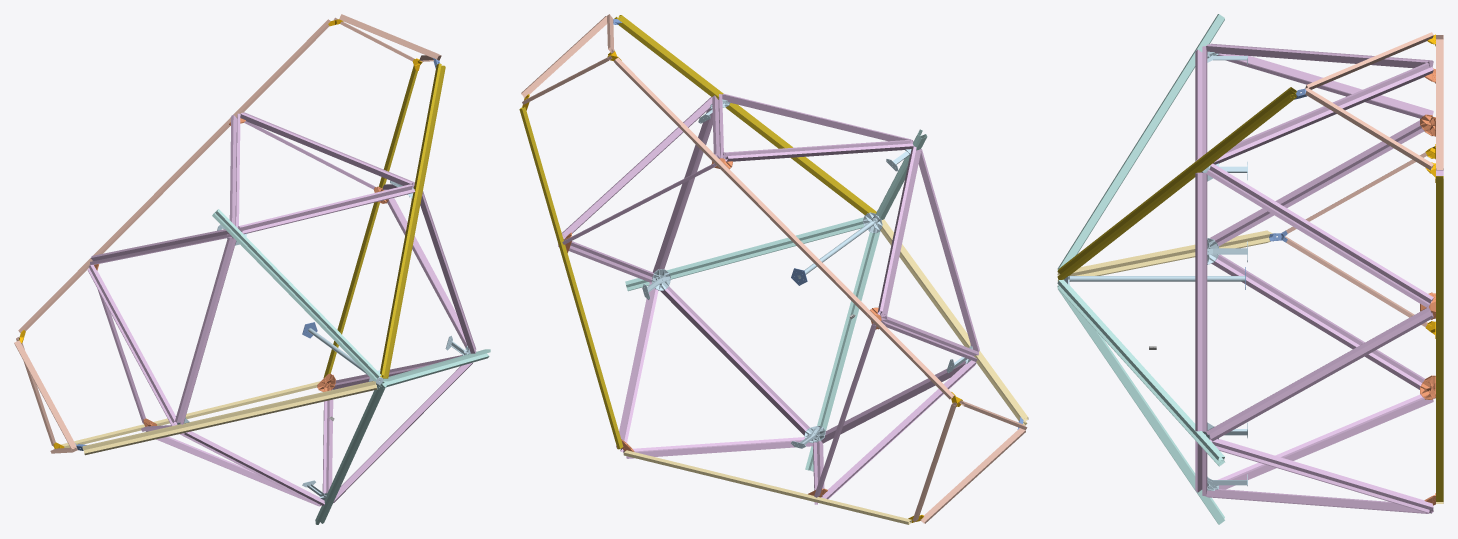
The model's file is dome_struts.glb.
The picture shows the model from 3 angles, left to right: view 1: azimuth 30°, elevation 25°; view 2: azimuth 150°, elevation 25°; view 3: azimuth 270°, elevation 25°; orthographic projection. The views are drawn at different scales.
Parts seen in each view (by area): view 1: 12ft (×18), 14ft (×6), 20ft (×3), 18ft (×3), 26ft, 24ft (×2); view 2: 12ft (×19), 20ft (×3), 14ft (×4), 18ft (×3), 26ft, 24ft (×3); view 3: 12ft (×22), 14ft (×5), 20ft (×3), 24ft (×5), 18ft (×2), Part 1.
Part boxes in pixels (x1,y1,x2,y2): 12ft (×18): (87, 112, 476, 506); 14ft (×6): (212, 209, 490, 524); 20ft (×3): (323, 63, 445, 378); 18ft (×3): (61, 381, 377, 455); 26ft: (18, 19, 330, 332); 24ft (×2): (14, 14, 438, 449); 12ft (×19): (562, 94, 979, 499); 20ft (×3): (519, 15, 876, 449); 14ft (×4): (625, 217, 880, 471); 18ft (×3): (623, 219, 1028, 524); 26ft: (613, 57, 954, 399); 24ft (×3): (521, 16, 1025, 523); 12ft (×22): (1195, 44, 1433, 513); 14ft (×5): (1057, 14, 1224, 524); 20ft (×3): (1057, 87, 1443, 501); 24ft (×5): (1285, 32, 1443, 327); 18ft (×2): (1057, 230, 1272, 281); Part 1: (1069, 276, 1245, 281).
Size of the model in its own units: 8.28 by 8.22 by 5.17.
